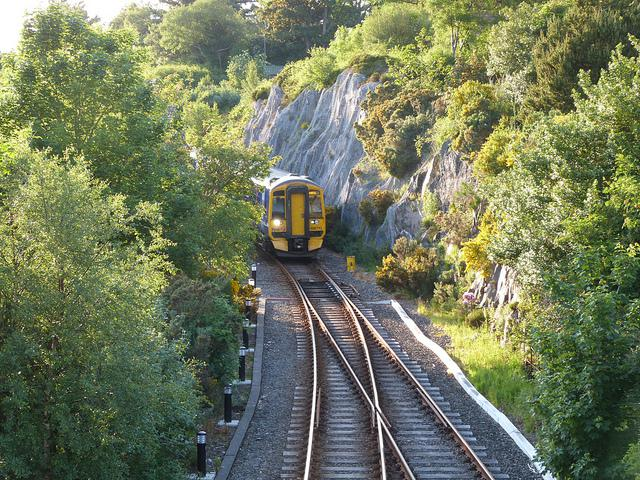Train: (255, 171, 329, 259)
